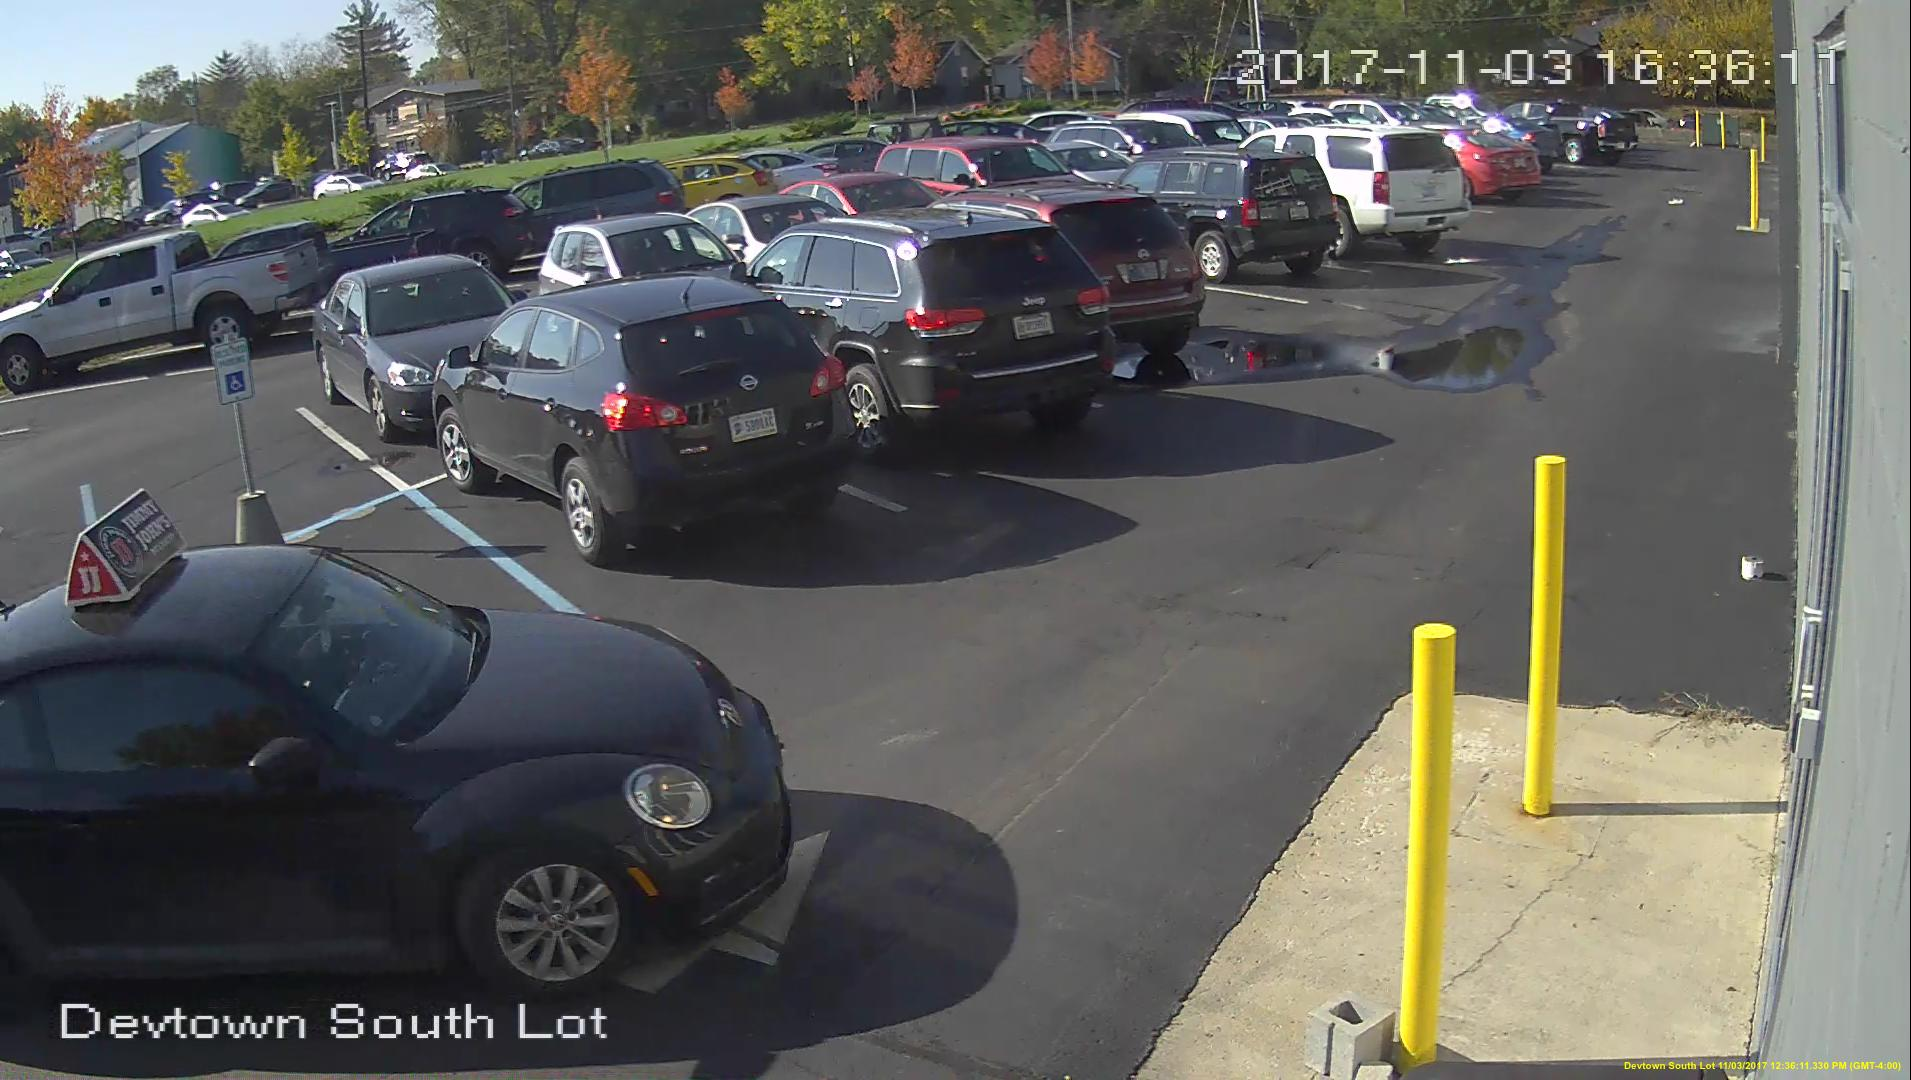jimmy_johns: (60, 489, 185, 606)
